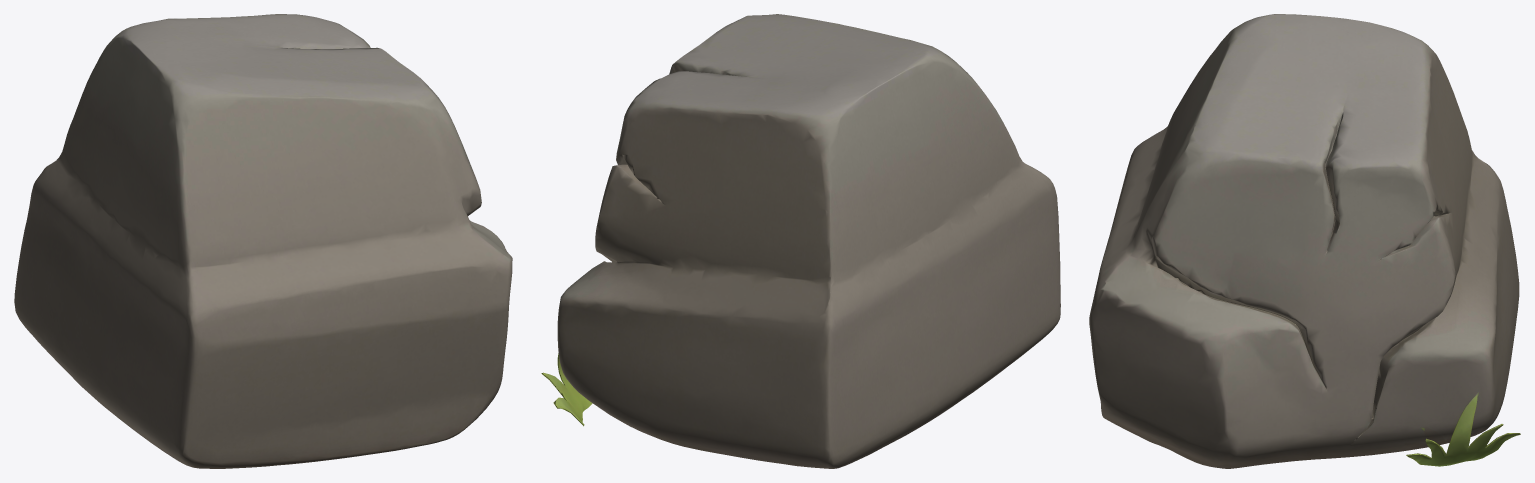
File: large_rock.glb
3 renders of one model, left to right at view 1: azimuth 30°, elevation 25°; view 2: azimuth 150°, elevation 25°; view 3: azimuth 270°, elevation 25°, orthographic. The views are drawn at different scales.
Visible parts, largest first — view 1: tripo_node_5cbb594d-7dce-4a81-8872-351d1bef2755; view 2: tripo_node_5cbb594d-7dce-4a81-8872-351d1bef2755; view 3: tripo_node_5cbb594d-7dce-4a81-8872-351d1bef2755.
Boxes of the visible parts, box(x1,y1,x2,y2) form: tripo_node_5cbb594d-7dce-4a81-8872-351d1bef2755: box(14, 14, 512, 468); tripo_node_5cbb594d-7dce-4a81-8872-351d1bef2755: box(541, 14, 1060, 468); tripo_node_5cbb594d-7dce-4a81-8872-351d1bef2755: box(1089, 14, 1520, 468).
Bounding box in the file's own units: 0.9283 × 0.8582 × 1.
1 material, 1 textured.
